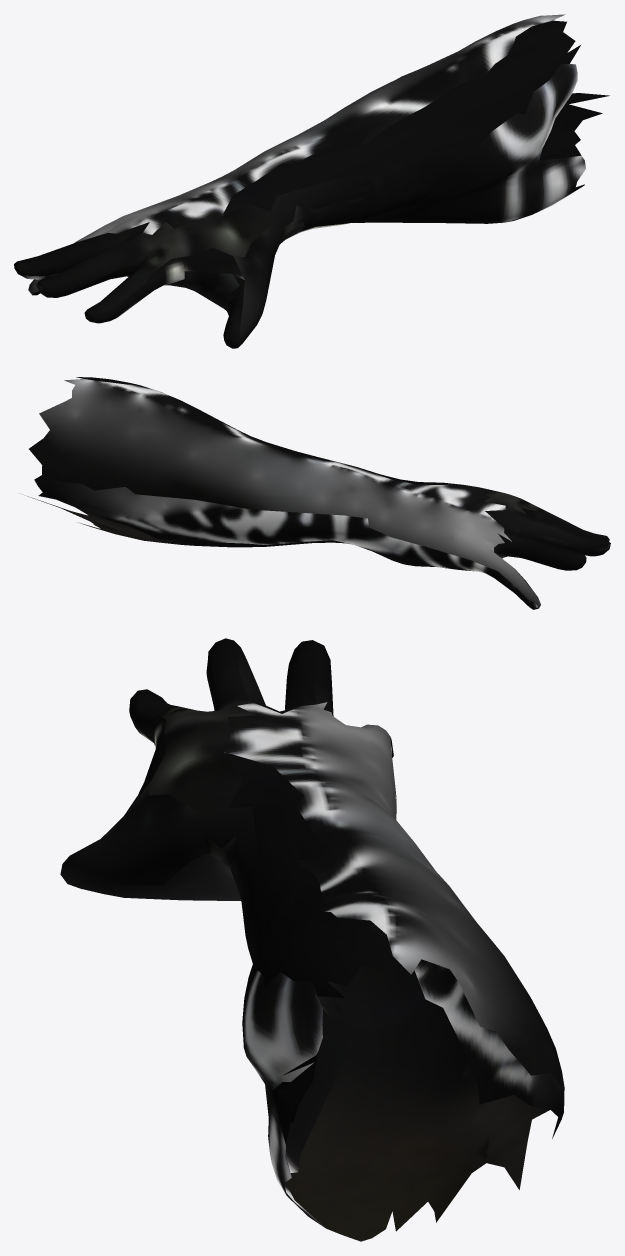
File: VagabondHand.fbx
3 renders of one model, top to bottom at view 1: azimuth 30°, elevation 25°; view 2: azimuth 150°, elevation 25°; view 3: azimuth 270°, elevation 25°, orthographic. The views are drawn at different scales.
Visible parts, largest first — view 1: node_0.001; view 2: node_0.001; view 3: node_0.001.
Boxes of the visible parts, <box> form: node_0.001: <box>14,14,609,348</box>; node_0.001: <box>27,377,610,609</box>; node_0.001: <box>60,638,564,1241</box>.
Bounding box in the file's own units: 27.22 × 7.17 × 11.39.
